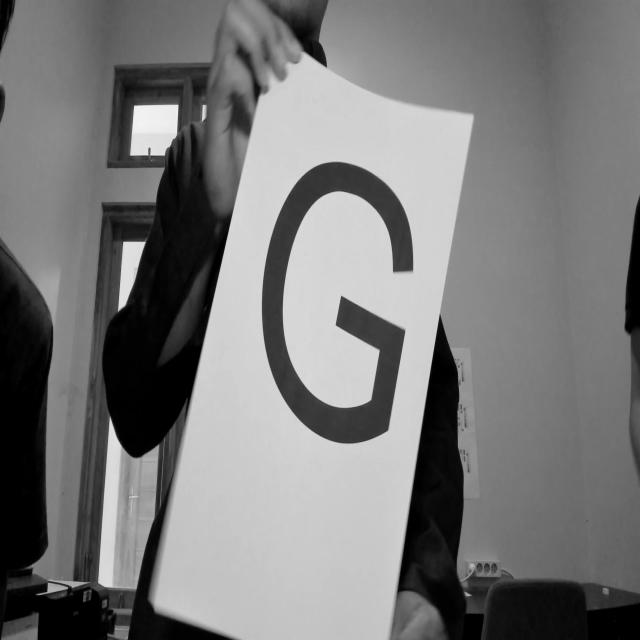g: (255, 123, 418, 455)
